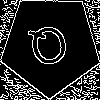Q: (25, 20, 74, 78)
